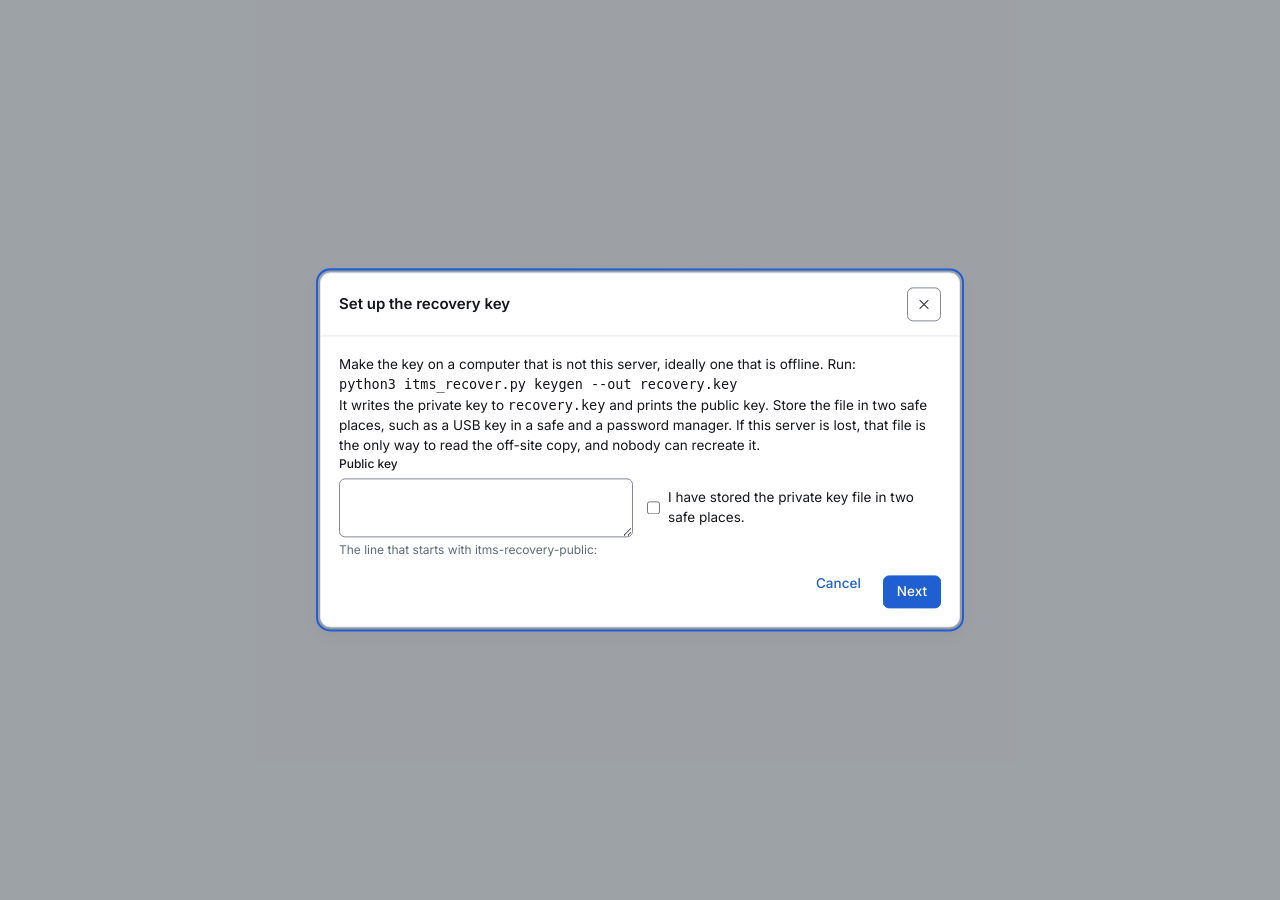
recovery key wizard › will not take the public key until the private key is confirmed stored
Expected: the text "python3 itms_recover.py keygen --out recovery.key" is shown, 339,377 -> 737,393
Type "itms-recovery-public:QUJD" into the text box labelled "Public key".
click(486, 508); type("itms-recovery-public:QUJD")  # box 339,479 -> 633,537
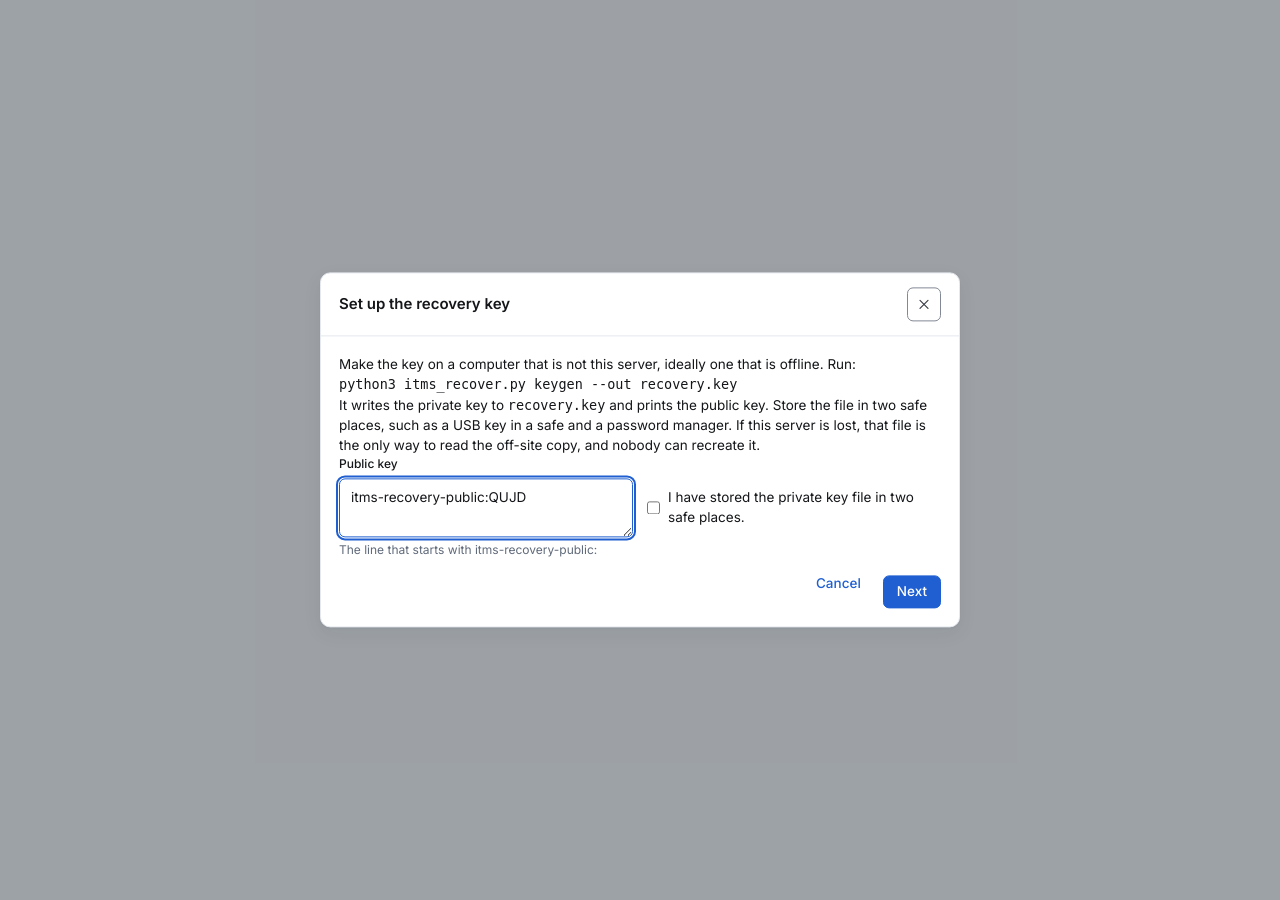
Click the button "Next".
click(912, 592)  # box 883,575 -> 941,609
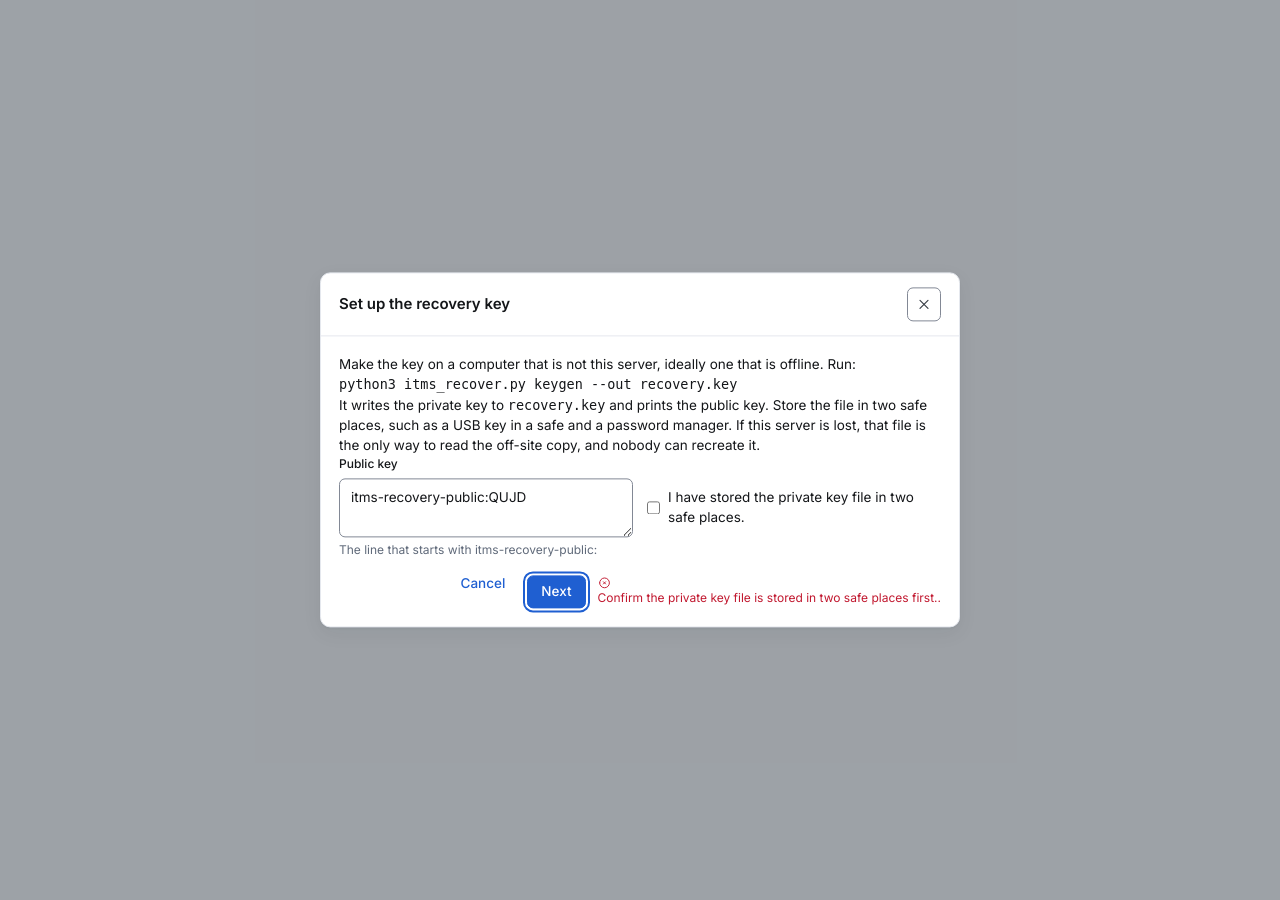
Expected: the text "Confirm the private key file is stored in two safe places first.." is shown, 598,576 -> 941,607
